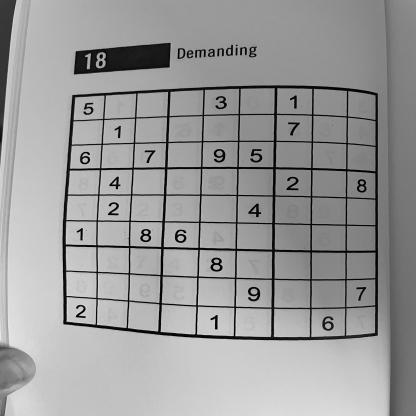sudoku: (58, 81, 383, 342)
